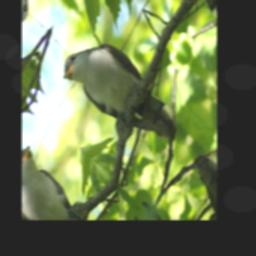Cuckoo: (59, 14, 186, 175)
